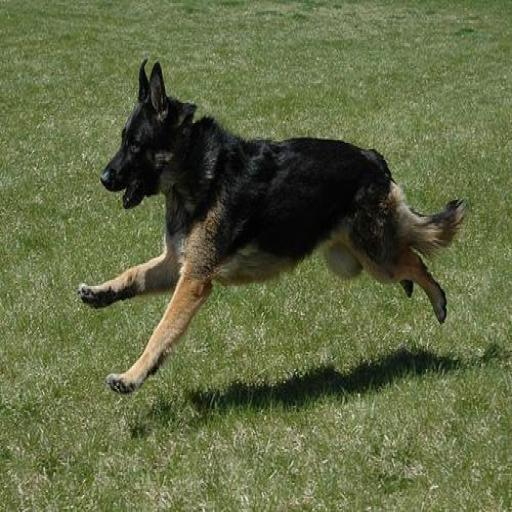dog_face: (104, 69, 178, 215)
